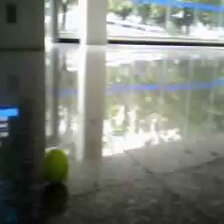tennis: (42, 149, 68, 180)
